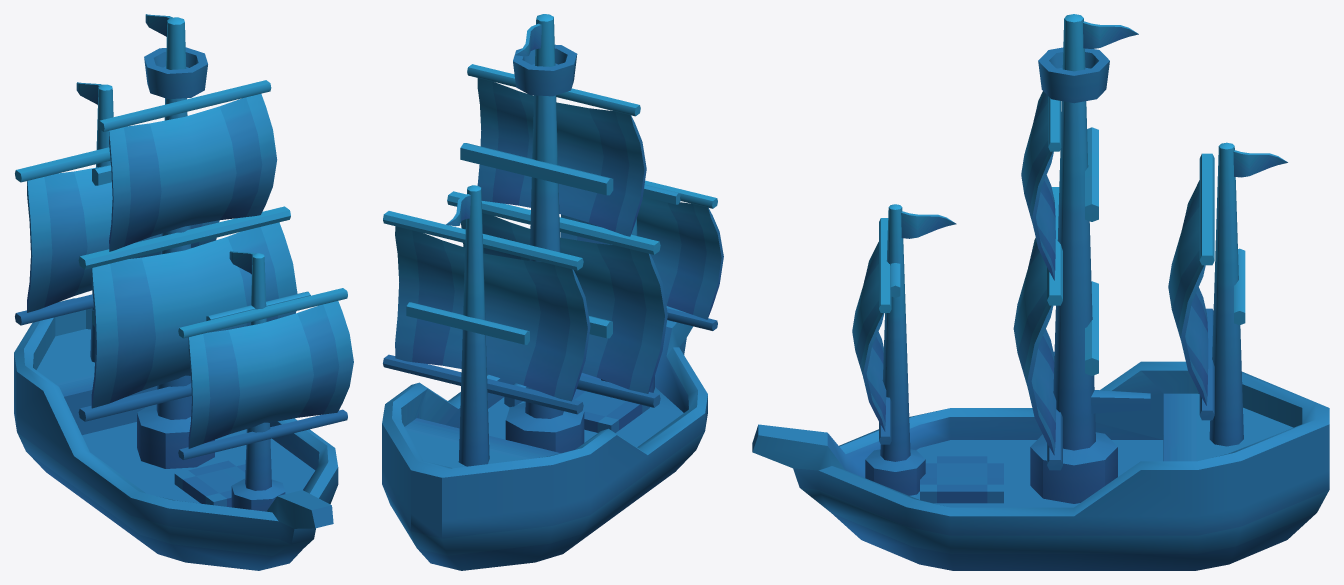
File: hex_ship_blue.glb
3 views of the same model, side by side, from view 1: azimuth 30°, elevation 25°; view 2: azimuth 150°, elevation 25°; view 3: azimuth 270°, elevation 25° (orthographic). The views are drawn at different scales.
Parts seen in each view (by area): view 1: ship_blue_full; view 2: ship_blue_full; view 3: ship_blue_full.
Boxes of the visible parts, x1,y1,x2,y2 form: ship_blue_full: [14, 14, 353, 570]; ship_blue_full: [382, 14, 723, 570]; ship_blue_full: [752, 14, 1329, 570].
Size of the model in its own units: 1 by 2.24 by 2.26.
1 material, 1 textured.
